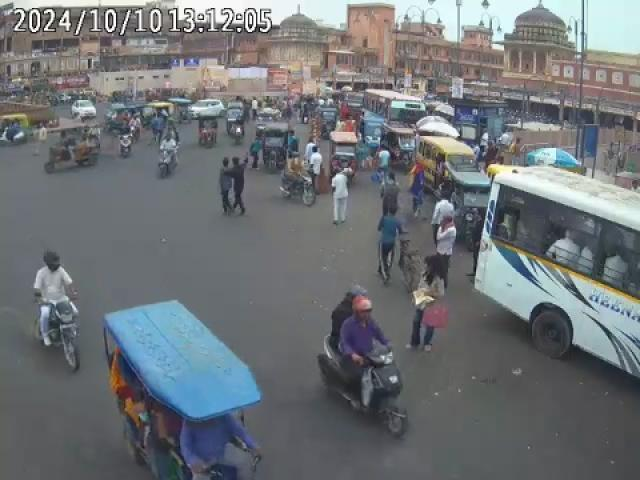auto: (106, 298, 274, 477), (415, 134, 480, 196), (46, 126, 102, 174), (260, 125, 294, 174), (328, 132, 362, 180), (1, 115, 30, 146)
bus: (476, 163, 640, 375), (360, 88, 425, 136)
helmet: (352, 298, 375, 322), (42, 251, 64, 271)
motorbike-rider: (32, 250, 84, 374), (278, 148, 318, 208)
person: (374, 204, 410, 286), (217, 154, 247, 216), (330, 169, 352, 226)
scooty-rider: (319, 290, 409, 434), (154, 138, 180, 180)
